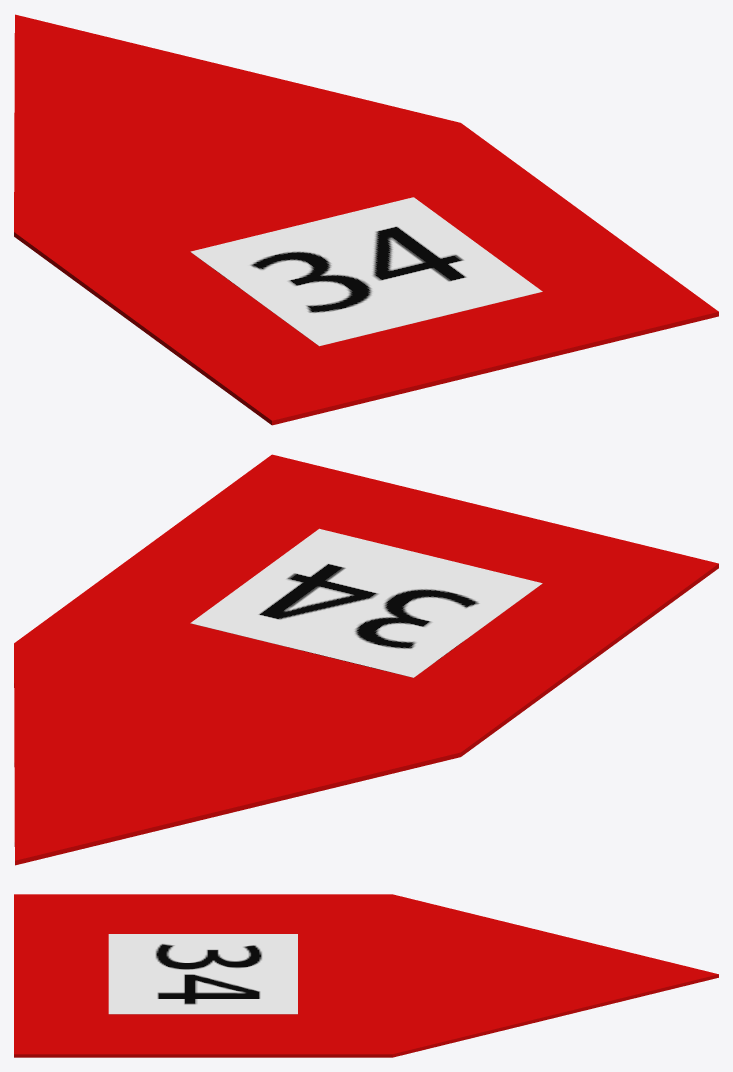
3 renders of one model, top to bottom at view 1: azimuth 30°, elevation 25°; view 2: azimuth 150°, elevation 25°; view 3: azimuth 270°, elevation 25°, orthographic. The views are drawn at different scales.
Visible parts, largest first — view 1: 立方体, 柱体, 立方体.001; view 2: 立方体, 柱体, 立方体.001; view 3: 立方体, 柱体, 立方体.001.
Part boxes in pixels (<box>): 立方体: <box>14,123,718,425</box>; 柱体: <box>14,14,460,231</box>; 立方体.001: <box>190,197,542,346</box>; 立方体: <box>14,454,718,756</box>; 柱体: <box>14,643,460,865</box>; 立方体.001: <box>190,528,542,677</box>; 立方体: <box>14,894,392,1057</box>; 柱体: <box>392,894,718,1057</box>; 立方体.001: <box>108,934,297,1014</box>.
Bounding box in the file's own units: 2 × 3.72 × 0.022.
Materials: 3 (1 with a texture image).
